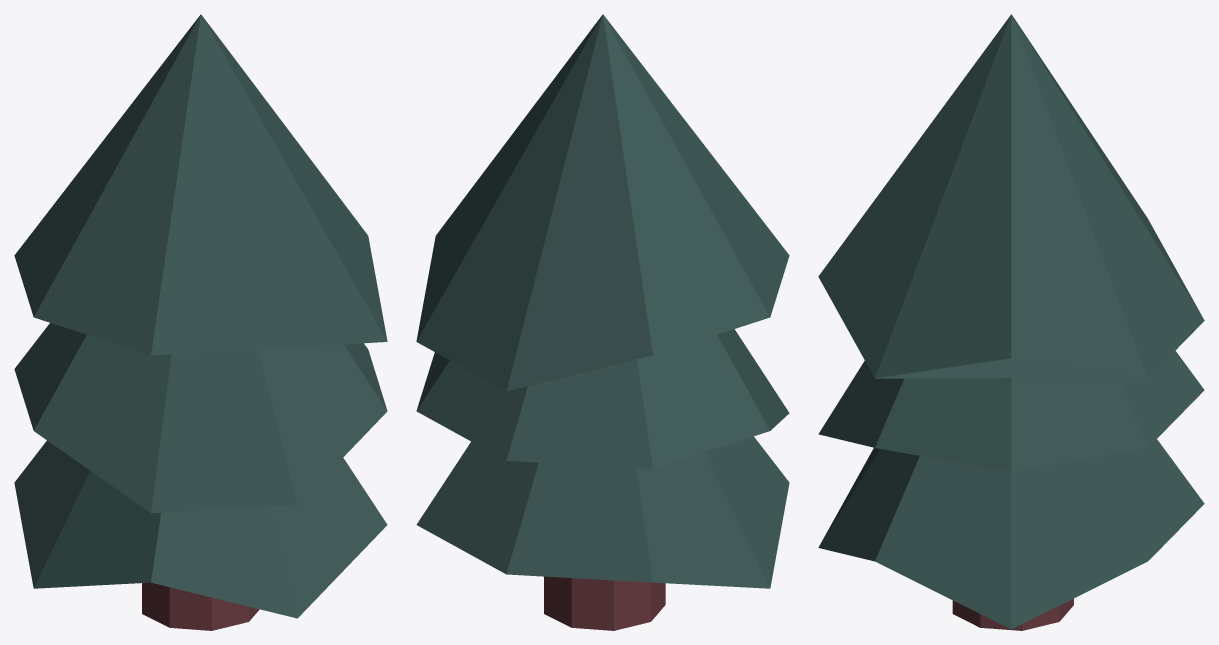
Rendered from pine 4-2.gltf.
3 views of the same model, side by side, from view 1: azimuth 30°, elevation 25°; view 2: azimuth 150°, elevation 25°; view 3: azimuth 270°, elevation 25° (orthographic).
Parts seen in each view (by area): view 1: Cone.036, Cone.037, Cone.038, Cylinder.008; view 2: Cone.036, Cone.038, Cone.037, Cylinder.008; view 3: Cone.036, Cone.038, Cone.037, Cylinder.008.
Boxes of the visible parts, x1=… form: Cone.036: x1=14, y1=14, x2=387, y2=355; Cone.037: x1=14, y1=323, x2=387, y2=513; Cone.038: x1=14, y1=440, x2=387, y2=618; Cylinder.008: x1=142, y1=582, x2=259, y2=630; Cone.036: x1=416, y1=14, x2=789, y2=391; Cone.038: x1=416, y1=436, x2=789, y2=588; Cone.037: x1=416, y1=329, x2=789, y2=468; Cylinder.008: x1=544, y1=576, x2=665, y2=630; Cone.036: x1=818, y1=14, x2=1204, y2=378; Cone.038: x1=818, y1=439, x2=1204, y2=629; Cone.037: x1=818, y1=351, x2=1204, y2=471; Cylinder.008: x1=952, y1=598, x2=1073, y2=630.
Size of the model in its own units: 6.17 by 10.41 by 6.17.
Materials: 1 (1 with a texture image).
